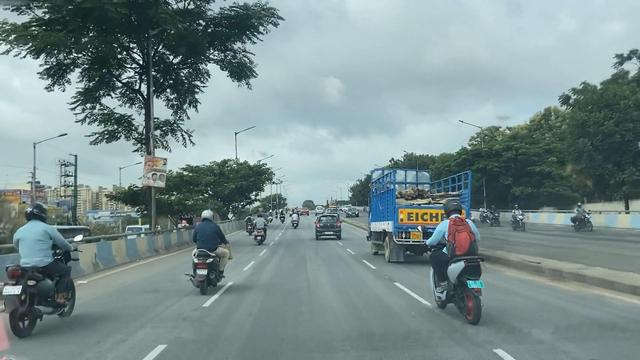LMV: (8, 204, 79, 337), (431, 208, 487, 315), (193, 203, 233, 292), (317, 211, 343, 244), (251, 218, 271, 241)
